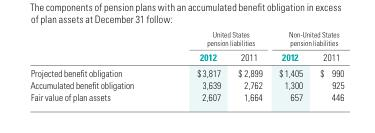table: (29, 29, 343, 102)
table column: (29, 29, 164, 102), (164, 29, 228, 102), (228, 29, 270, 102), (270, 29, 310, 102), (310, 29, 343, 102)
table column header: (29, 29, 343, 64)
table row: (29, 29, 343, 48), (29, 48, 343, 64), (29, 64, 343, 78), (29, 78, 343, 90), (29, 90, 343, 102)
table spanning cell: (164, 29, 270, 48), (270, 29, 343, 48)
